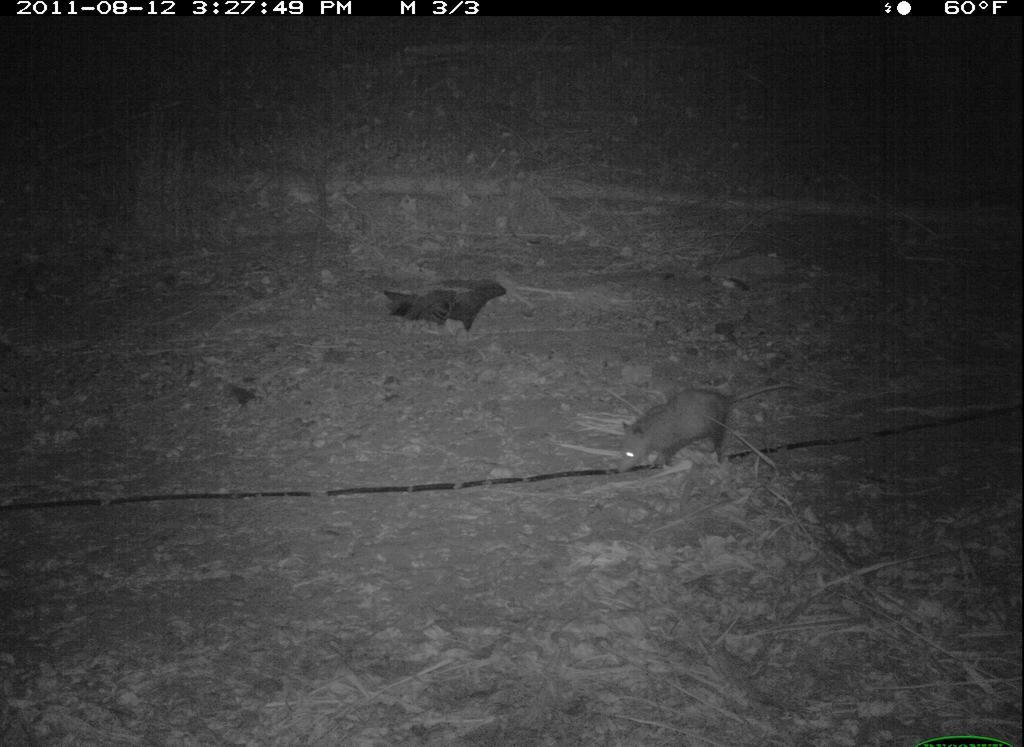opossum: (611, 372, 803, 482)
